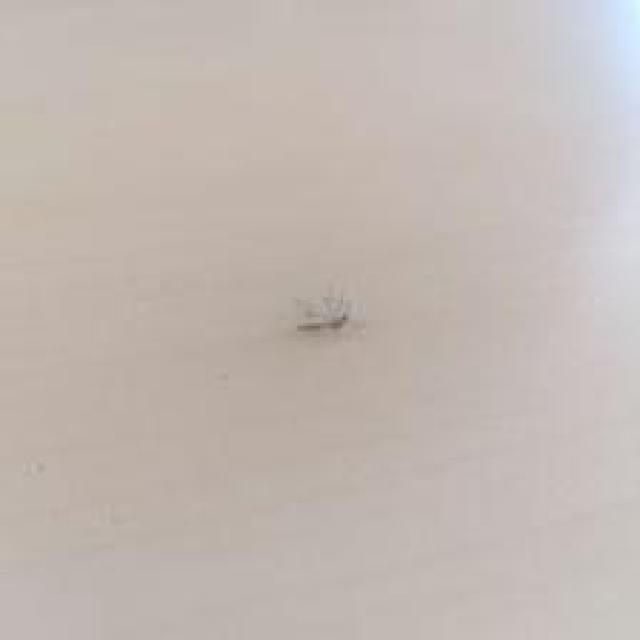Culex: (293, 287, 353, 333)
